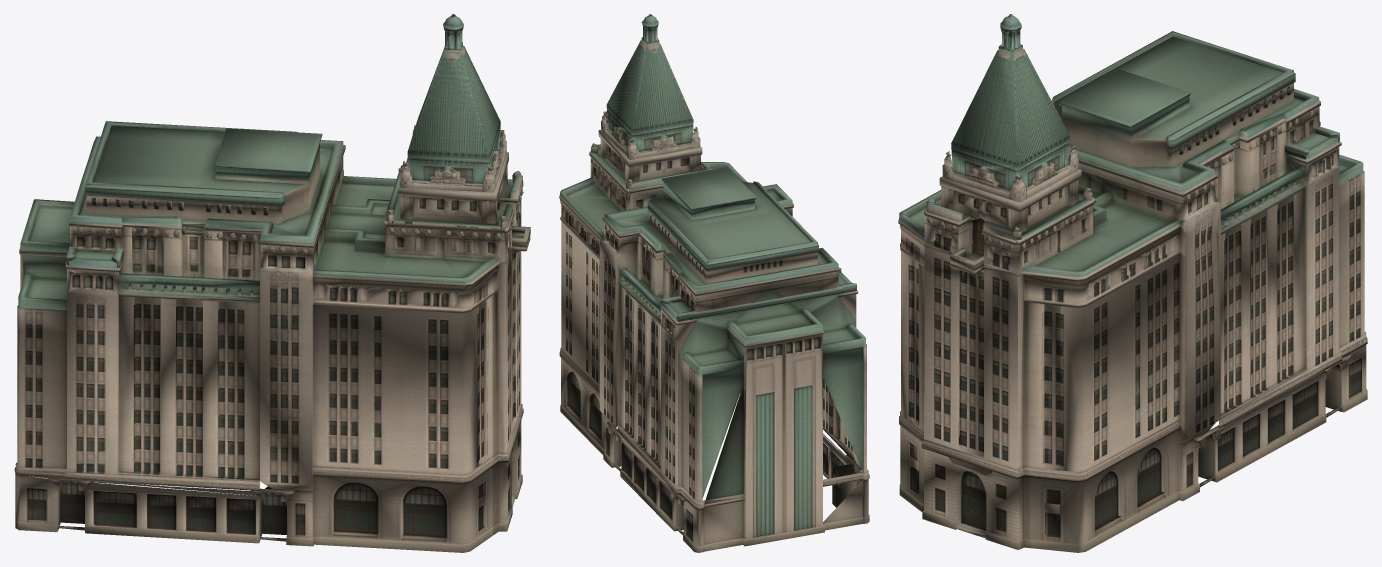
The model's file is peace-hotel.glb.
3 views of the same model, side by side, from view 1: azimuth 30°, elevation 25°; view 2: azimuth 150°, elevation 25°; view 3: azimuth 270°, elevation 25° (orthographic). The views are drawn at different scales.
Parts seen in each view (by area): view 1: tripo_node_90c70c4a-a8c0-4e9e-90f5-a8e5adbf8fa6; view 2: tripo_node_90c70c4a-a8c0-4e9e-90f5-a8e5adbf8fa6; view 3: tripo_node_90c70c4a-a8c0-4e9e-90f5-a8e5adbf8fa6.
Boxes of the visible parts, left/top/right/bottom form: tripo_node_90c70c4a-a8c0-4e9e-90f5-a8e5adbf8fa6: left=14, top=14, right=530, bottom=552; tripo_node_90c70c4a-a8c0-4e9e-90f5-a8e5adbf8fa6: left=559, top=14, right=869, bottom=552; tripo_node_90c70c4a-a8c0-4e9e-90f5-a8e5adbf8fa6: left=898, top=14, right=1367, bottom=552.
Size of the model in its own units: 46.75 by 50 by 42.63.
1 material, 1 textured.
